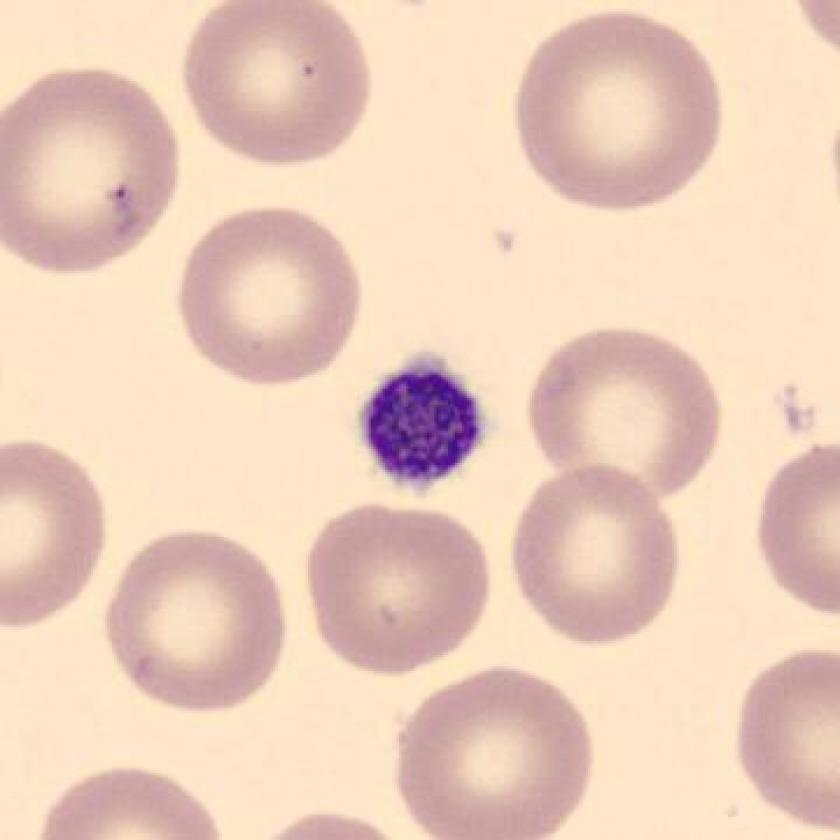platelets: (351, 337, 496, 506)
